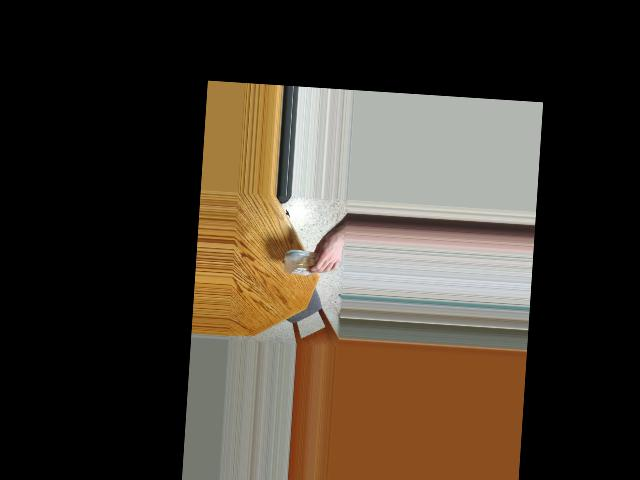cheese: (278, 239, 327, 283)
